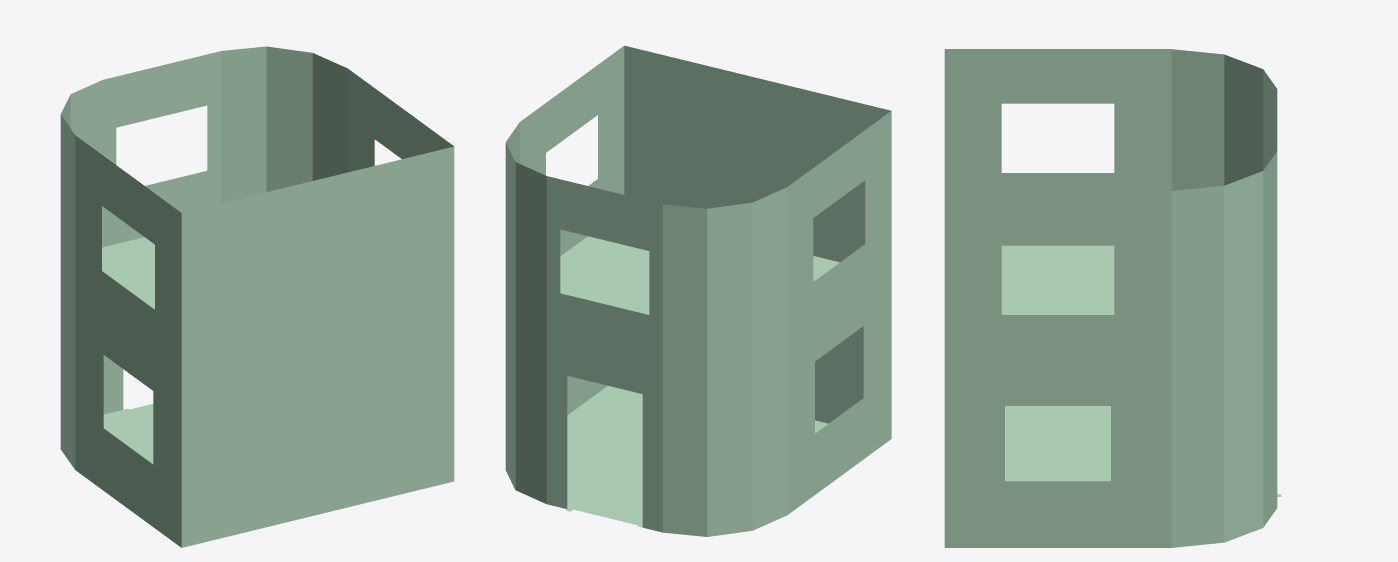
Rendered from Bld_C_low_L1_A.fbx.
3 renders of one model, left to right at view 1: azimuth 30°, elevation 25°; view 2: azimuth 150°, elevation 25°; view 3: azimuth 270°, elevation 25°, orthographic. The views are drawn at different scales.
Visible parts, largest first — view 1: Bld_C_low_L1_A_LOD0; view 2: Bld_C_low_L1_A_LOD0; view 3: Bld_C_low_L1_A_LOD0.
Part boxes in pixels (box(x1,y1,x2,y2)): Bld_C_low_L1_A_LOD0: box(60, 46, 454, 547); Bld_C_low_L1_A_LOD0: box(505, 45, 891, 536); Bld_C_low_L1_A_LOD0: box(944, 49, 1281, 547).
Size of what is drawn, in the model's own units: 500 by 670 by 629.
Materials: 1 (1 with a texture image).
